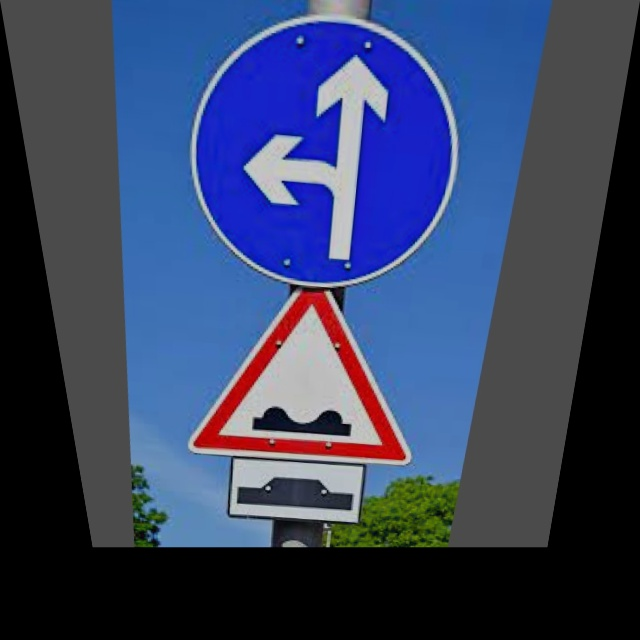Compulsory_Ahead_or_Turn_Left: (160, 7, 493, 298)
